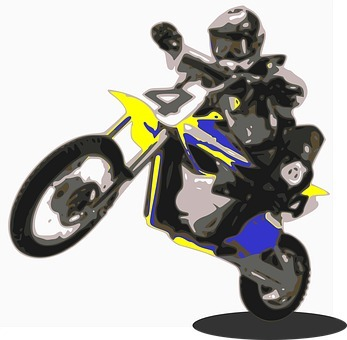motorbike: (3, 56, 326, 322)
person: (137, 4, 320, 248)
